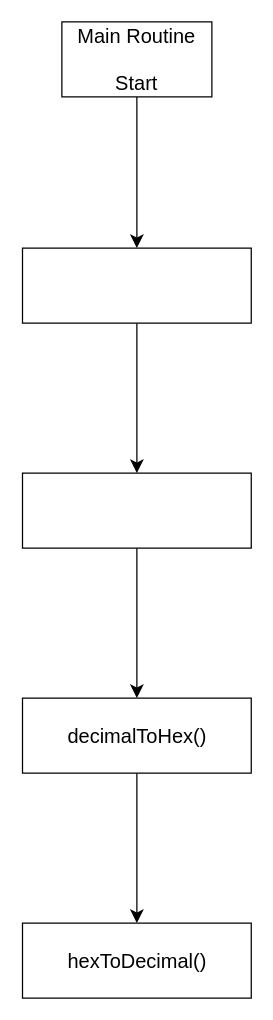
Image size: 273x1020. Some labels were removed from this diagram. The centre of each missing label's shape, as x and y in pixels:
binaryToDecimal(): the point at 136,510
decimalToBinary(): the point at 136,285
